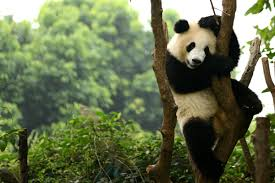panda: (148, 12, 263, 170)
